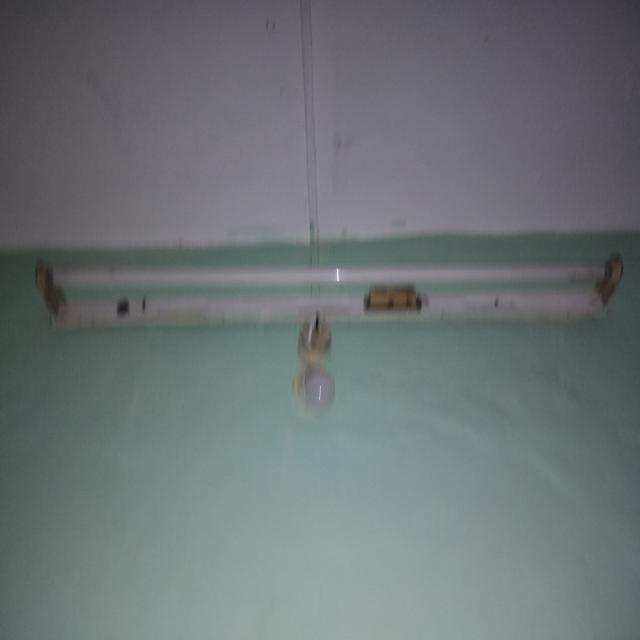tubelight_off: (36, 252, 625, 330)
